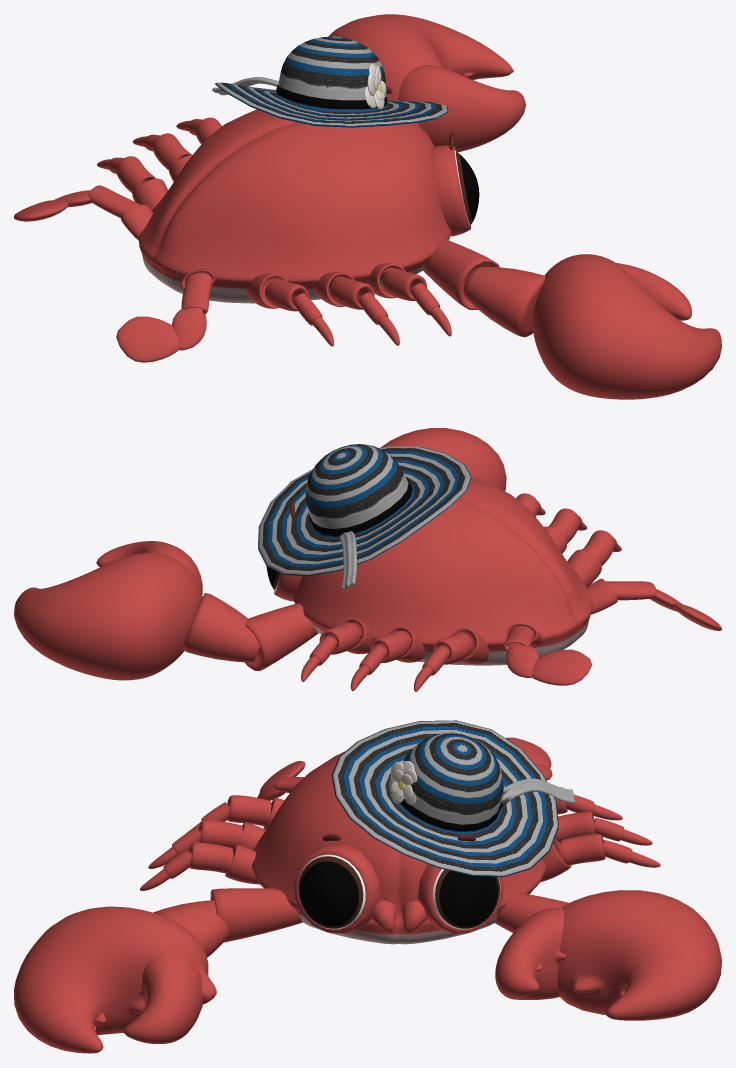
File: DioramaCangrejito.fbx
3 renders of one model, top to bottom at view 1: azimuth 30°, elevation 25°; view 2: azimuth 150°, elevation 25°; view 3: azimuth 270°, elevation 25°, orthographic. The views are drawn at different scales.
Visible parts, largest first — view 1: Cuerpo, TenazaC, Sombrero, TenazaC.001, PataA.002, Sphere, TenazaB, PataA.001, PataA, TenazaA, OjosA, PataA.005 (+3 smaller); view 2: Cuerpo, TenazaC, Sombrero, PataA.002, TenazaB, Sphere, TenazaA, PataA, PataA.001, TenazaC.001, PataA.005, PataA.003 (+1 smaller); view 3: TenazaC, Sombrero, Cuerpo, TenazaC.001, OjosB, PataA.002, TenazaA, PataA.001, OjosA, PataA, TenazaB, Sphere (+2 smaller).
Boxes of the visible parts, x1,y1,x2,y2 form: Cuerpo: (138, 109, 451, 303); TenazaC: (328, 14, 721, 399); Sombrero: (212, 36, 448, 127); TenazaC.001: (398, 65, 691, 320); PataA.002: (116, 117, 426, 311); Sphere: (14, 190, 206, 362); TenazaB: (463, 266, 545, 337); PataA.001: (97, 119, 451, 346); PataA: (132, 155, 405, 308); TenazaA: (423, 239, 499, 309); OjosA: (414, 122, 470, 236); PataA.005: (87, 185, 212, 314); Cuerpo: (293, 477, 592, 665); TenazaC: (14, 428, 506, 680); Sombrero: (258, 444, 471, 589); PataA.002: (319, 493, 614, 664); TenazaB: (182, 593, 260, 662); Sphere: (506, 589, 721, 685); TenazaA: (244, 603, 318, 671); PataA: (338, 526, 601, 664); PataA.001: (301, 501, 621, 691); TenazaC.001: (96, 541, 202, 595); PataA.005: (503, 581, 656, 650); PataA.003: (506, 578, 617, 647); TenazaC: (14, 890, 721, 1053); Sombrero: (331, 720, 575, 876); Cuerpo: (251, 751, 546, 944); TenazaC.001: (123, 907, 566, 1043); OjosB: (298, 854, 500, 929); PataA.002: (189, 787, 605, 873); TenazaA: (210, 888, 568, 942); PataA.001: (140, 795, 660, 890); OjosA: (294, 844, 503, 933); PataA: (225, 797, 571, 884); TenazaB: (153, 900, 228, 957); Sphere: (257, 737, 552, 800).
Bounding box in the file's own units: 304 × 128 × 339.
Materials: 10 (1 with a texture image).
